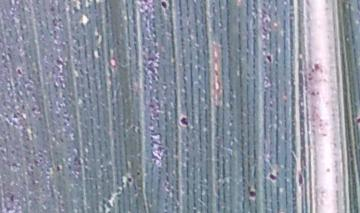tarspot: (175, 112, 192, 130), (265, 168, 280, 186), (246, 184, 258, 204), (294, 169, 306, 188), (54, 53, 68, 68), (12, 64, 25, 79), (263, 50, 275, 66), (159, 1, 171, 16), (7, 190, 18, 206), (125, 172, 134, 187), (54, 161, 64, 174), (353, 113, 360, 129), (135, 169, 142, 180)
